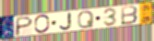3: (103, 7, 118, 27)
B: (121, 5, 139, 26)
J: (59, 12, 73, 31)
O: (34, 14, 51, 35)
P: (14, 15, 35, 37)
Q: (77, 10, 95, 30)
